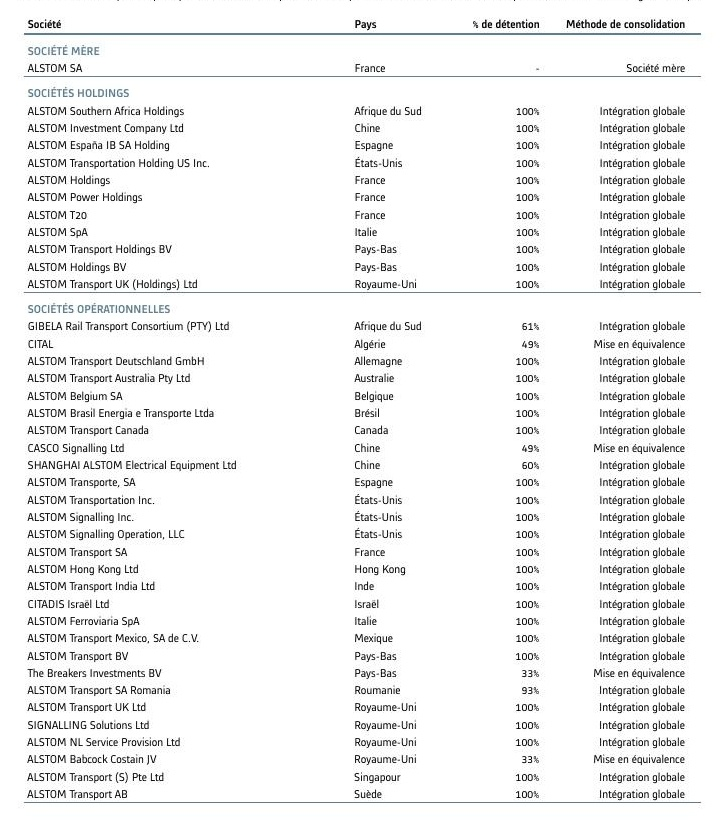table: (0, 0, 721, 822)
